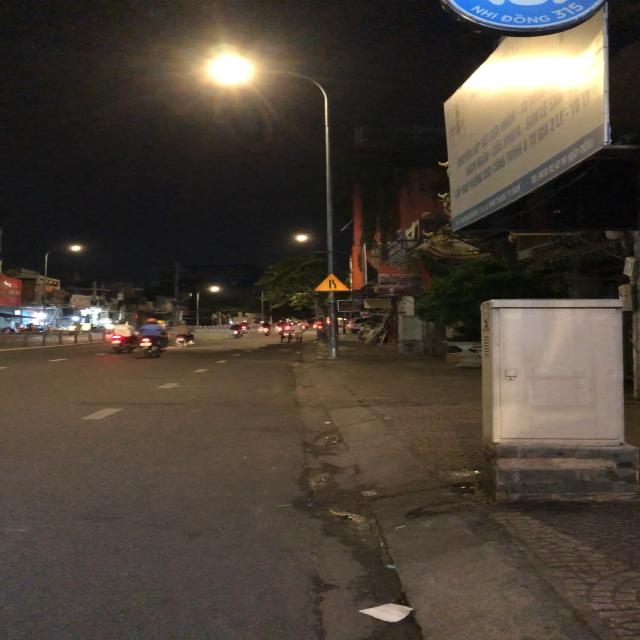Bien bao duong bi thu hep: (313, 272, 351, 292)
